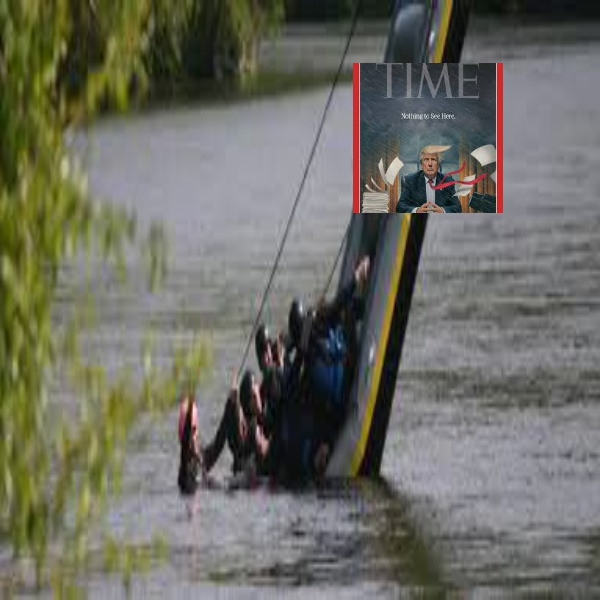time_cover: (348, 56, 505, 212)
